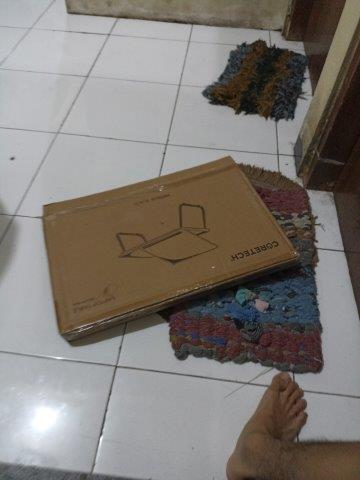kardus: (45, 158, 298, 336)
